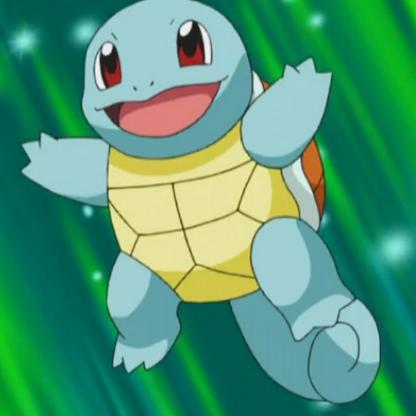Squirtle: (39, 1, 384, 414)
